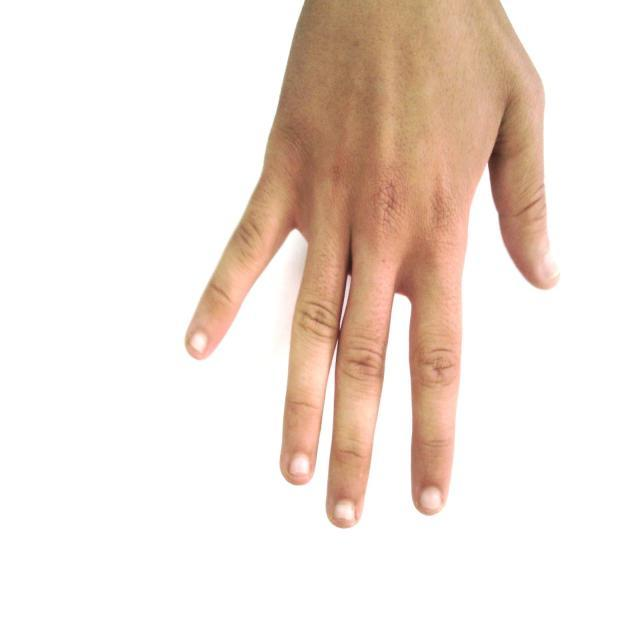Fingernail: (542, 253, 561, 281), (421, 486, 442, 509), (189, 330, 208, 355), (334, 498, 355, 520), (290, 453, 309, 476)
